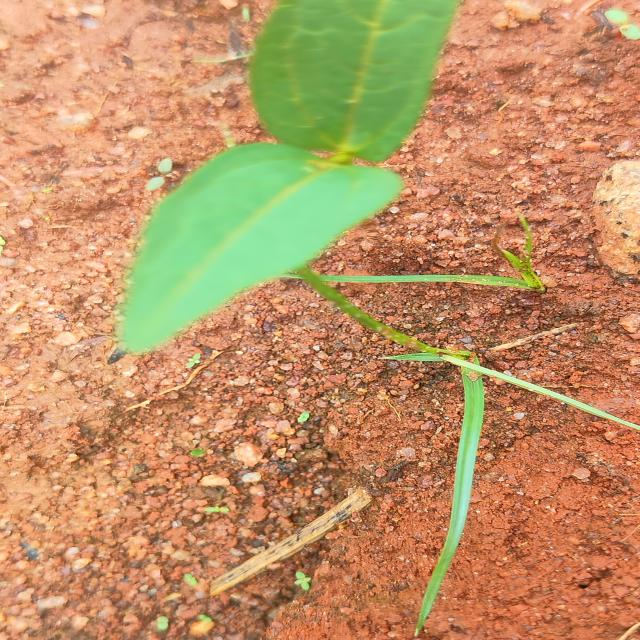Black gram_healthy: (111, 140, 418, 356), (242, 0, 449, 164)
